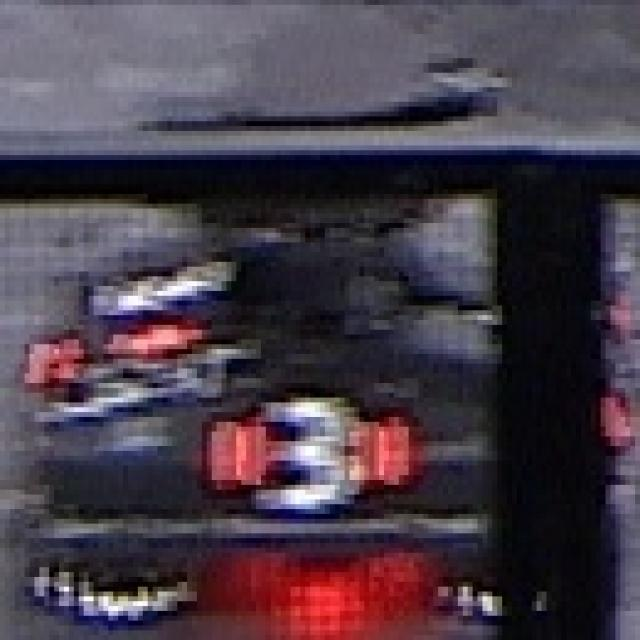R3: (207, 398, 418, 524)
